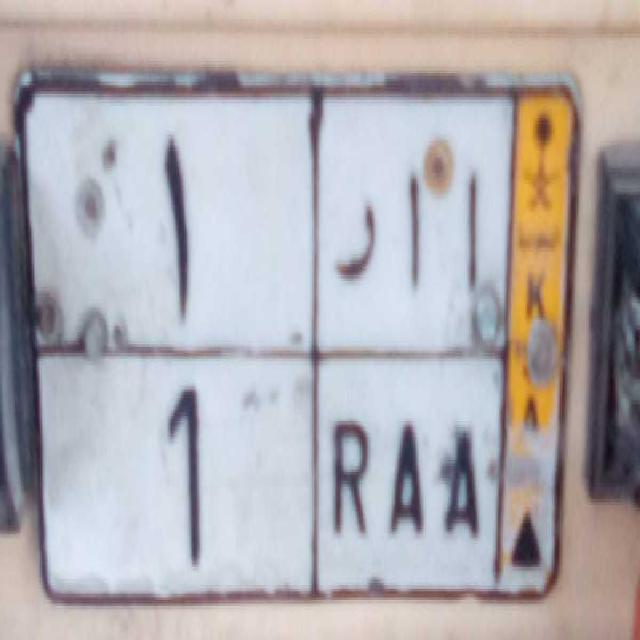license_plate: (34, 349, 500, 598)
